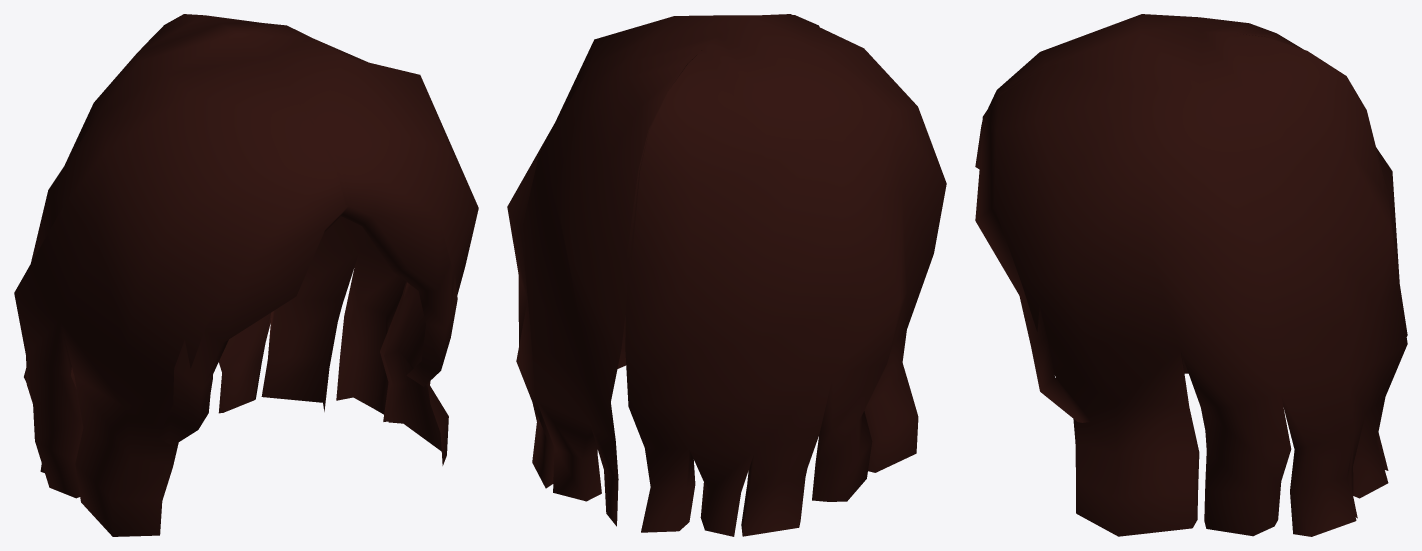
The model's file is Hair_4.fbx.
3 renders of one model, left to right at view 1: azimuth 30°, elevation 25°; view 2: azimuth 150°, elevation 25°; view 3: azimuth 270°, elevation 25°, orthographic. The views are drawn at different scales.
Parts seen in each view (by area): view 1: KoreanT_EyeLine.002; view 2: KoreanT_EyeLine.002; view 3: KoreanT_EyeLine.002.
Part boxes in pixels (x1,y1,x2,y2): KoreanT_EyeLine.002: [14, 14, 478, 536]; KoreanT_EyeLine.002: [507, 14, 946, 536]; KoreanT_EyeLine.002: [975, 14, 1407, 536].
Bounding box in the file's own units: 134 × 140 × 122.
